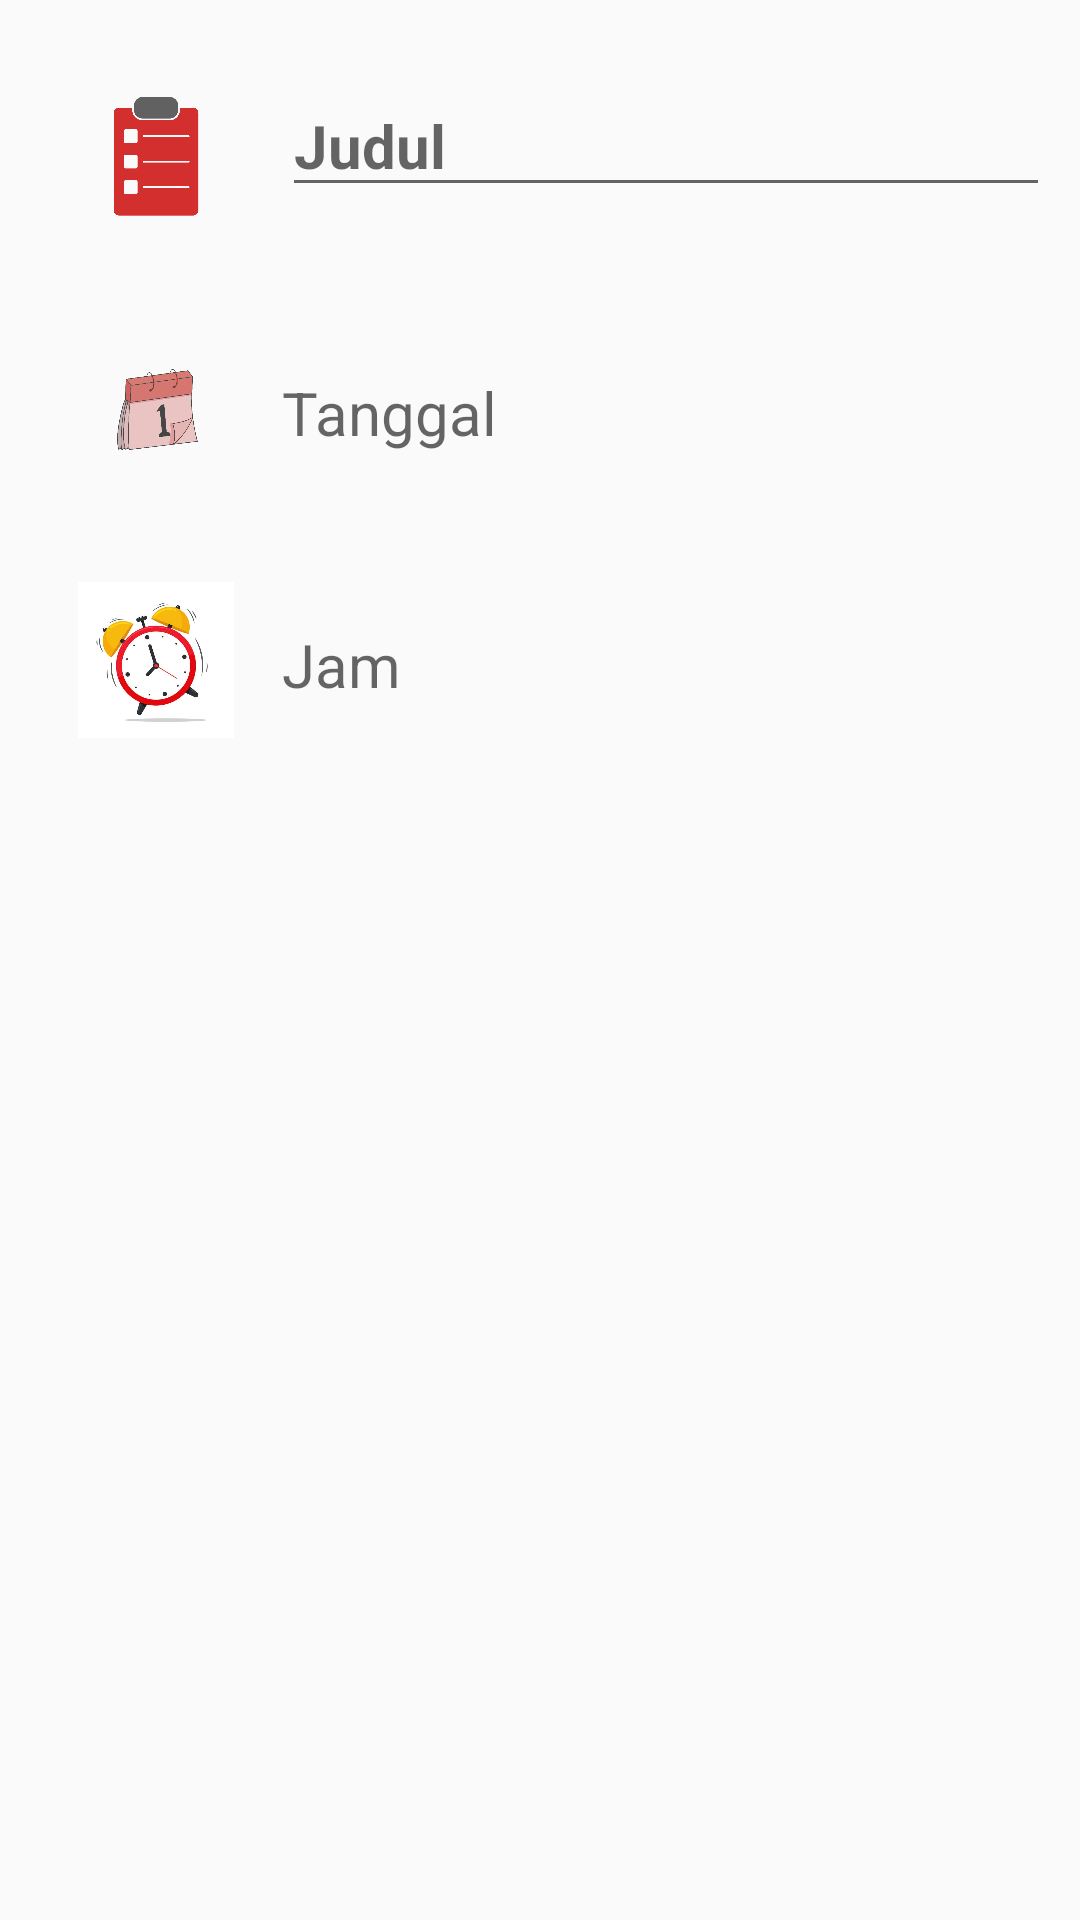

Named icons in this screenshot (1080x1920) and their centers, [x,y]:
kalendar: [157,409]
list: [156,156]
